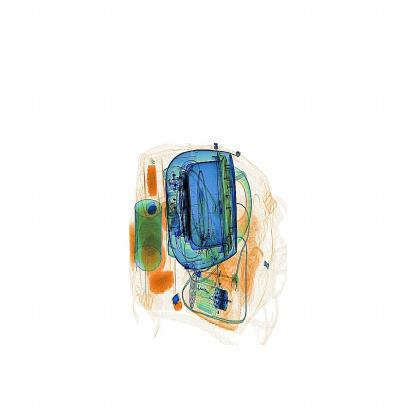wrench: (169, 292, 185, 316)
